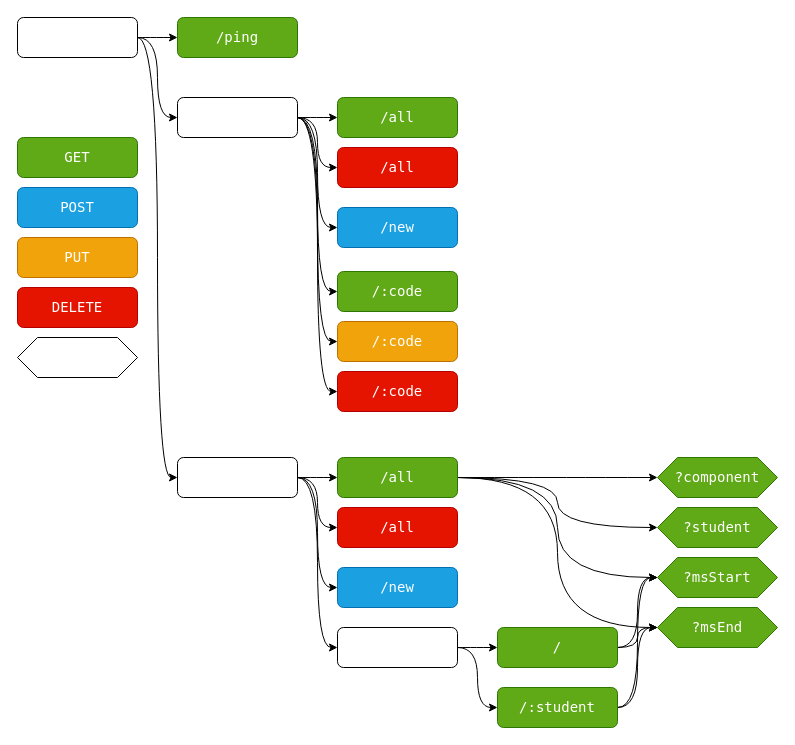
The diagram is 795 pixels wide and 745 high, and some of its shapes have lost their labels. The shapes that lost their labels are listed below. From the top down, each one's centre as x and y in pixels, then its label:
At (77,37): "/api/v1.0".
At (237,117): "/components".
At (77,357): "OPTIONAL".
At (237,477): "/logs".
At (397,647): "/:component".
